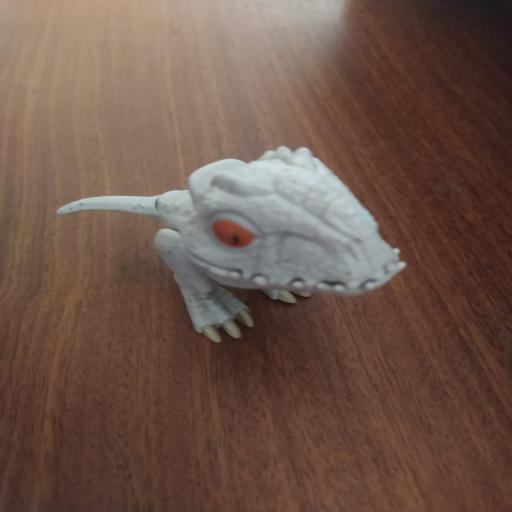Dinosaurio: (46, 139, 414, 349)
